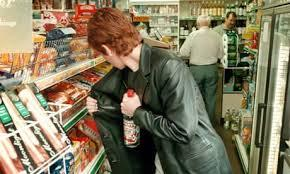shoplifting: (73, 66, 229, 174)
